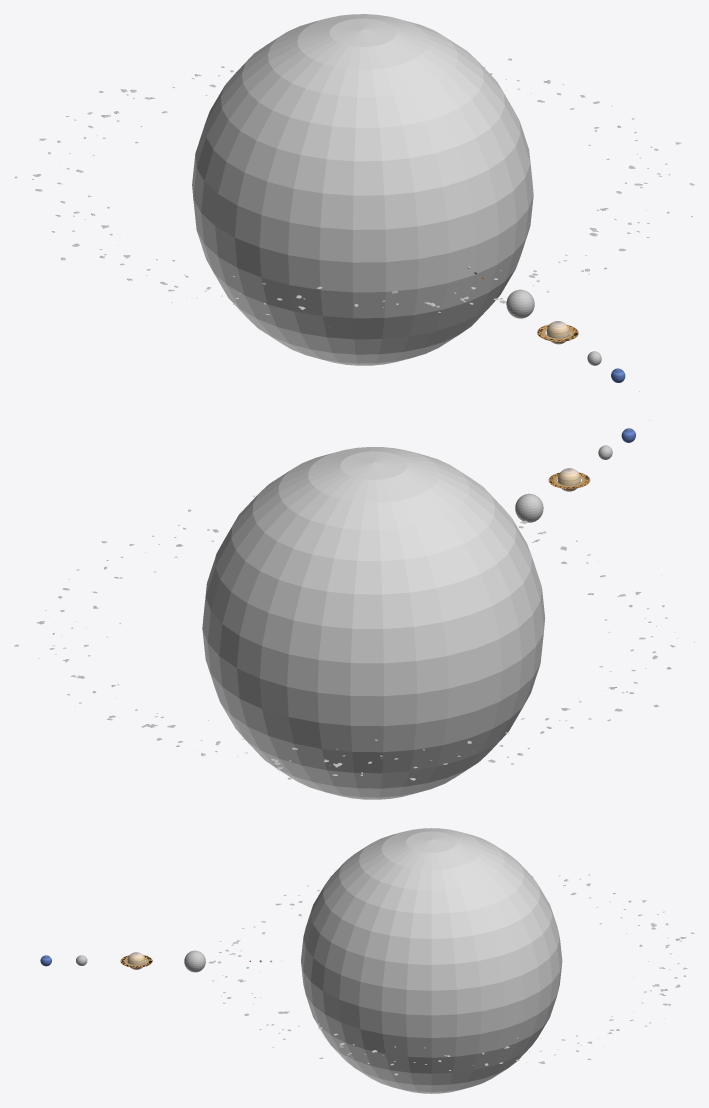
File: aaa.fbx
3 renders of one model, top to bottom at view 1: azimuth 30°, elevation 25°; view 2: azimuth 150°, elevation 25°; view 3: azimuth 270°, elevation 25°, orthographic. The views are drawn at different scales.
Visible parts, largest first — view 1: Sun, asteroidi3_Roundcube.003, Jupiter; view 2: Sun, asteroidi3_Roundcube.003, Jupiter; view 3: Sun, asteroidi3_Roundcube.003.
Boxes of the visible parts, box(x1,y1,x2,y2) form: Sun: box(192, 14, 533, 365); asteroidi3_Roundcube.003: box(14, 58, 694, 315); Jupiter: box(506, 289, 534, 318); Sun: box(202, 447, 545, 799); asteroidi3_Roundcube.003: box(14, 495, 694, 780); Jupiter: box(515, 493, 543, 522); Sun: box(301, 828, 562, 1093); asteroidi3_Roundcube.003: box(208, 869, 694, 1075).
Bounding box in the file's own units: 135032 × 70301 × 178972.
